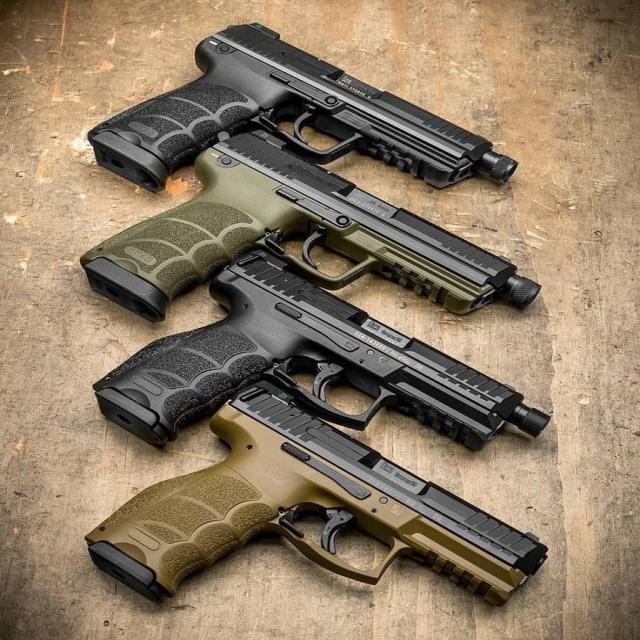pistol: (88, 389, 551, 608), (81, 130, 542, 326), (96, 253, 550, 450), (88, 22, 520, 193)
